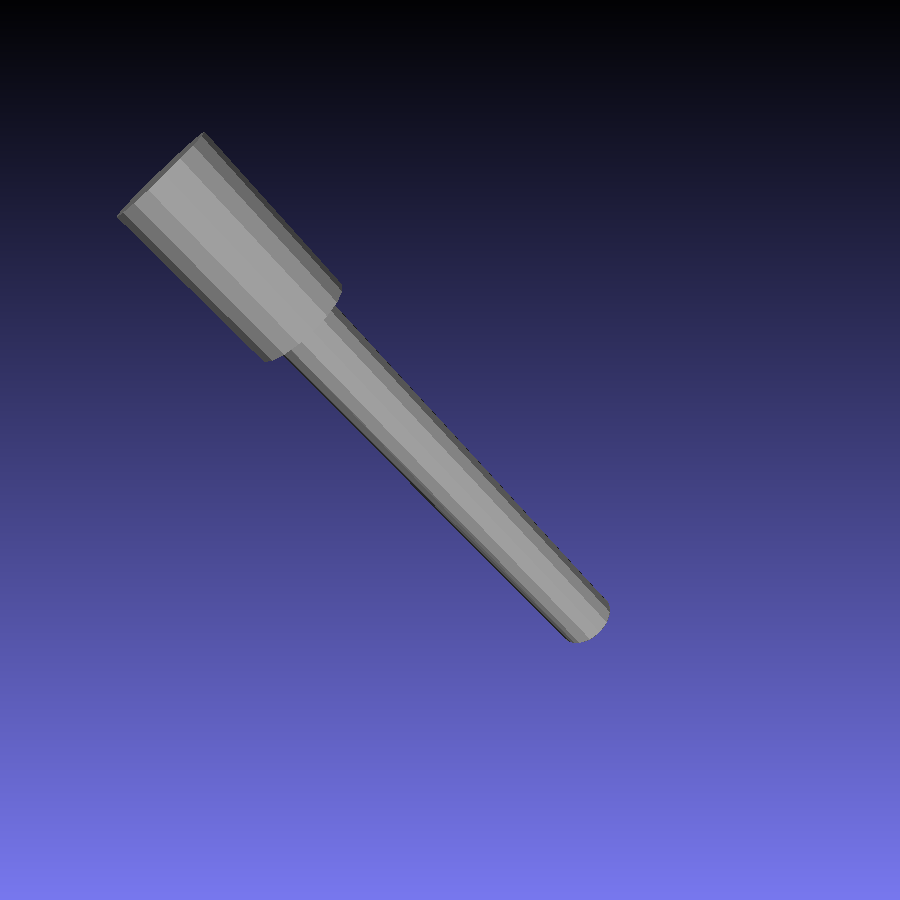cargo_g: (114, 132, 612, 644)
